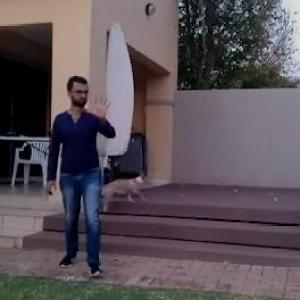follow_hand: (86, 90, 115, 123)
